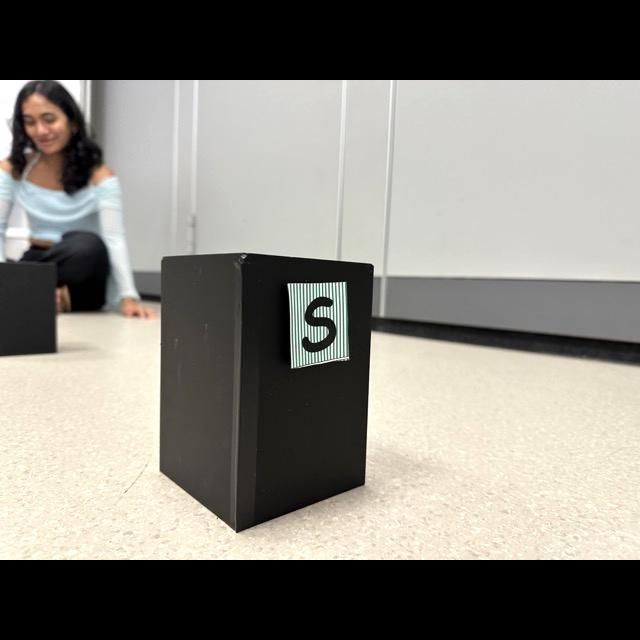S: (302, 296, 336, 352)
